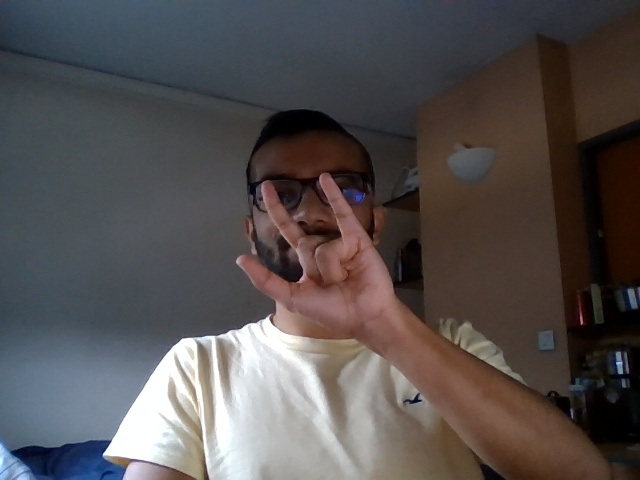I Love You: (230, 166, 409, 329)
